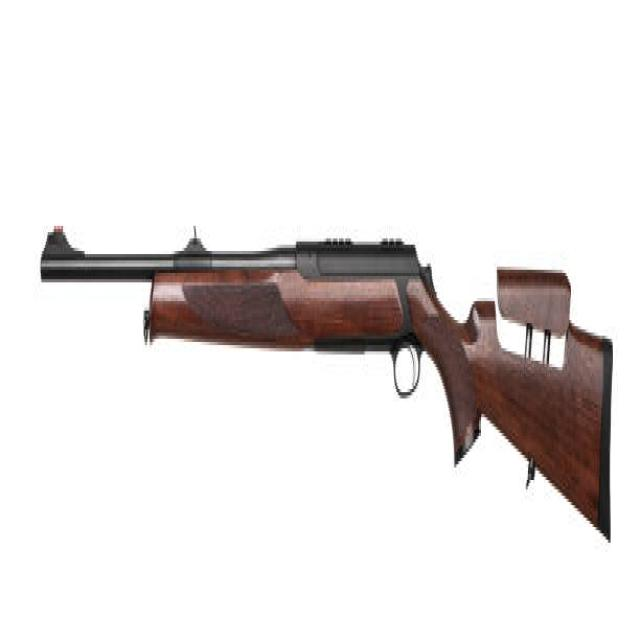rifle: (38, 198, 623, 570)
